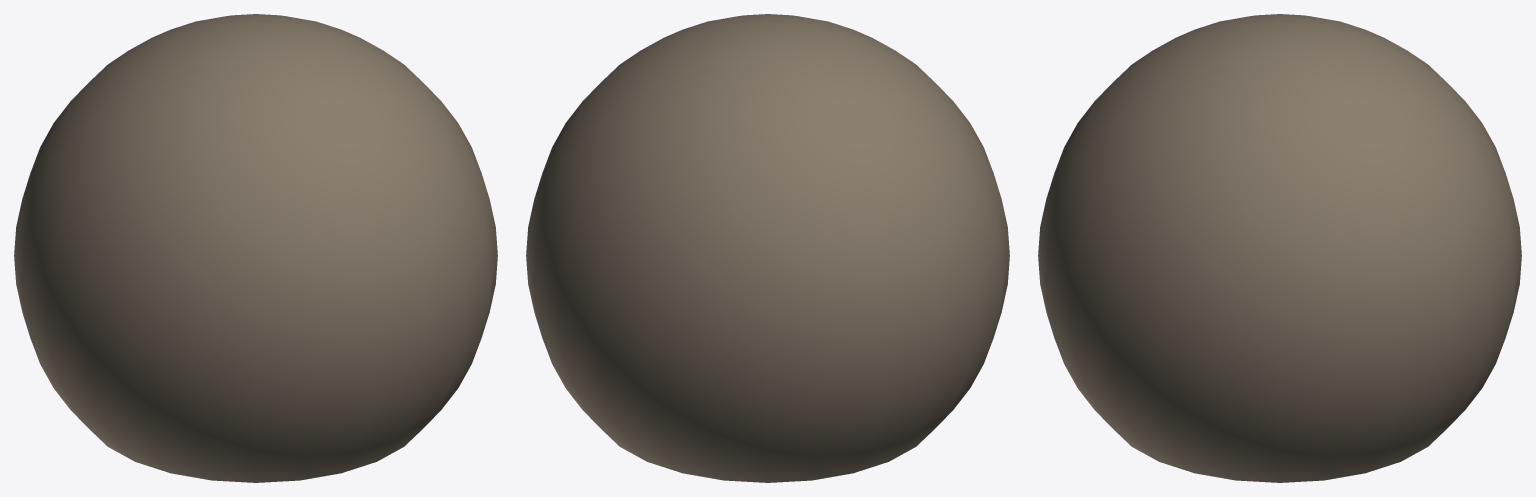
File: short.glb
3 views of the same model, side by side, from view 1: azimuth 30°, elevation 25°; view 2: azimuth 150°, elevation 25°; view 3: azimuth 270°, elevation 25° (orthographic).
Visible parts, largest first — view 1: Hair_short; view 2: Hair_short; view 3: Hair_short.
Part boxes in pixels (left/top/right/bottom): Hair_short: left=14, top=14, right=497, bottom=482; Hair_short: left=526, top=14, right=1009, bottom=482; Hair_short: left=1038, top=14, right=1521, bottom=482.
Bounding box in the file's own units: 2.16 × 1.84 × 2.16.
